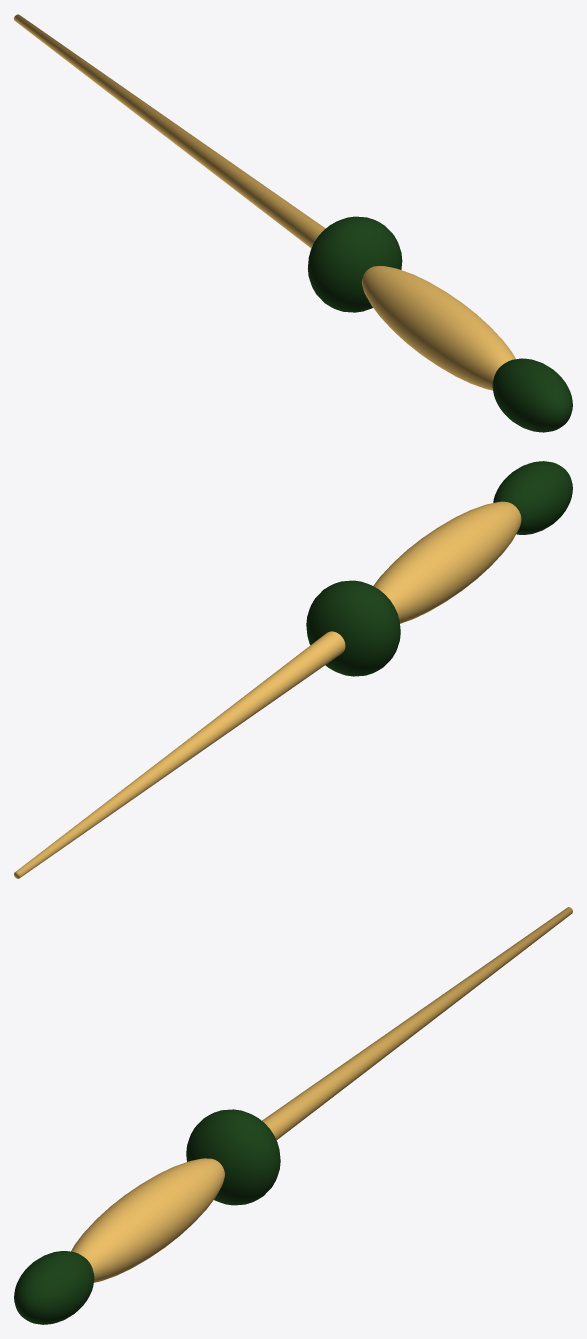
Rendered from CuriousWand.fbx.
The picture shows the model from 3 angles, top to bottom: view 1: azimuth 30°, elevation 25°; view 2: azimuth 150°, elevation 25°; view 3: azimuth 330°, elevation 25°; orthographic projection.
Visible parts, largest first — view 1: CuriousWand; view 2: CuriousWand; view 3: CuriousWand.
Part boxes in pixels (box(x1,y1,x2,y2)): CuriousWand: box(14, 14, 572, 432); CuriousWand: box(14, 461, 572, 878); CuriousWand: box(14, 907, 572, 1324).
Bounding box in the file's own units: 35.8 × 3.23 × 3.23.
